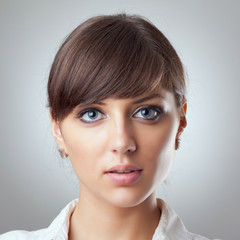teen: (57, 44, 183, 199)
